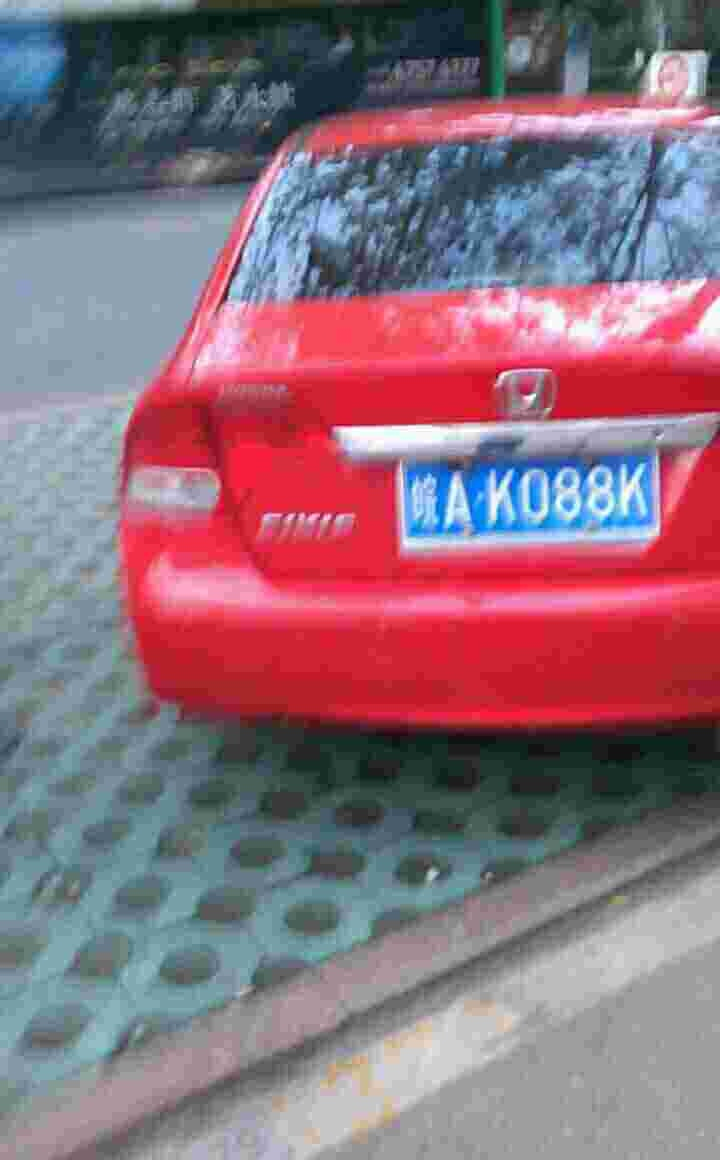license_plate: (406, 463, 671, 548)
